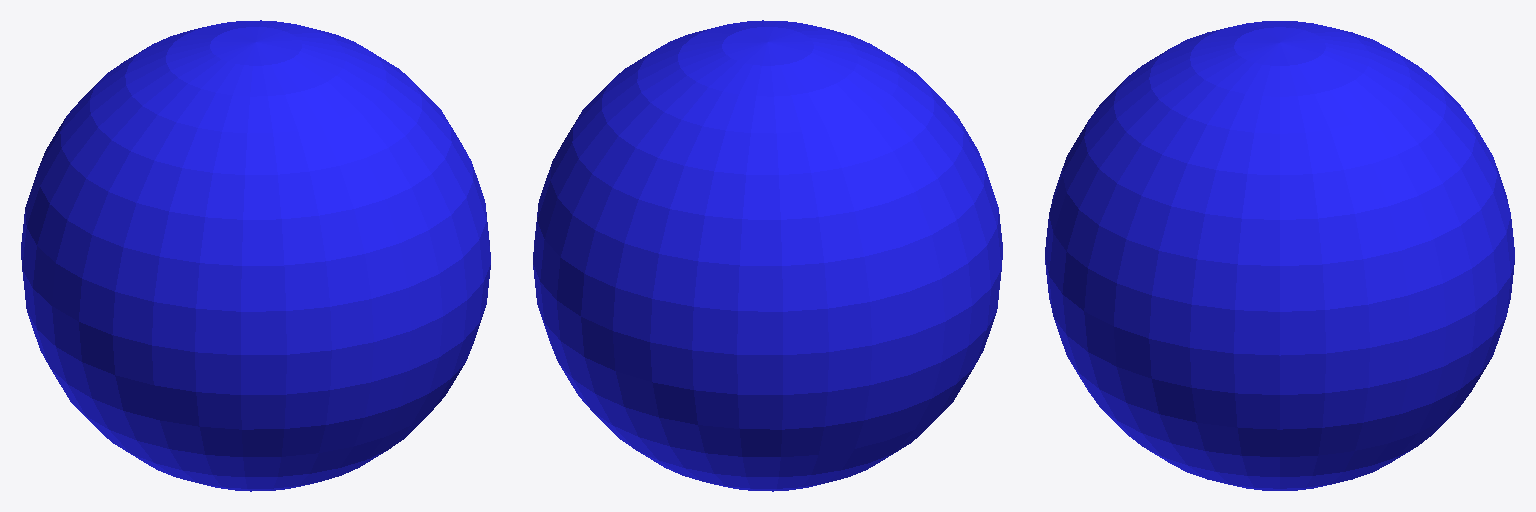
The robot description file, URDF, robot "simple_sphere":
<?xml version="1.0"?>
<robot name="simple_sphere">
    <material name="blue">
        <color rgba="0.2 0.2 1 1"/>
    </material>
    <link name="sphere_link">
        <!-- Inertial properties -->
        <inertial>
            <mass value="0.1"/>
            <origin xyz="0 0 0" rpy="0 0 0"/>
            <inertia ixx="0.0002" ixy="0.0" ixz="0.0" iyy="0.0002" iyz="0.0" izz="0.0002"/>
        </inertial>

        <!-- Collision shape -->
        <collision>
            <origin xyz="0 0 0" rpy="0 0 0"/>
            <geometry>
                <sphere radius="0.1"/>
            </geometry>
        </collision>

        <!-- Visual shape with red material -->
        <visual>
            <origin xyz="0 0 0" rpy="0 0 0"/>
            <geometry>
              <sphere radius="0.1"/>
            </geometry>
            <material name="blue">
              <color rgba="0.2 0.2 1 1"/>
            </material>
          </visual>


    </link>

    <gazebo reference="sphere_link">
        <material>Gazebo/Orange</material>
    </gazebo>

</robot>

--- What the picture shows (computed from the rendered views, not written in the file) ---
The picture shows the robot from 3 angles, left to right: view 1: azimuth 30°, elevation 25°; view 2: azimuth 150°, elevation 25°; view 3: azimuth 270°, elevation 25°; orthographic projection.
Model simple_sphere with 1 links and 0 joints (none), rooted at sphere_link, posed all joints at 0.
Links seen in each view (by area): view 1: sphere_link; view 2: sphere_link; view 3: sphere_link.
Boxes of the visible links, x1,y1,x2,y2 form: sphere_link: (21, 20, 490, 491); sphere_link: (533, 20, 1002, 491); sphere_link: (1045, 21, 1514, 490).
Bounding box of the posed robot: 0.2 × 0.2 × 0.2 m (x, y, z).
Geometry: primitives only (box / cylinder / sphere), no mesh files.